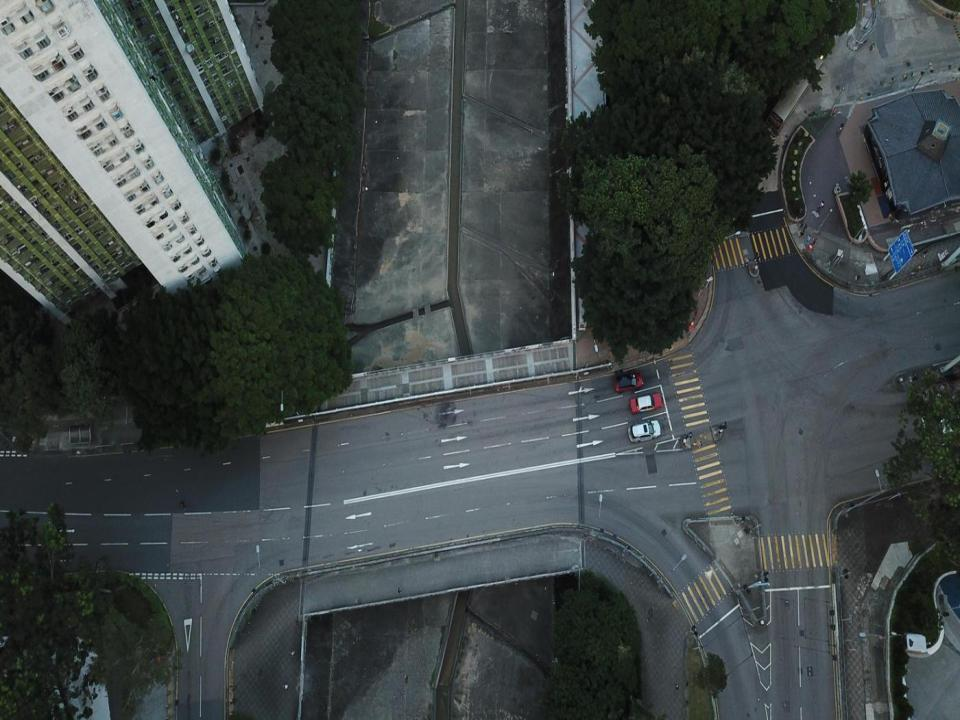bus: (762, 50, 823, 141), (578, 288, 587, 331)
car: (627, 420, 661, 442), (630, 393, 663, 414), (614, 373, 644, 393)
